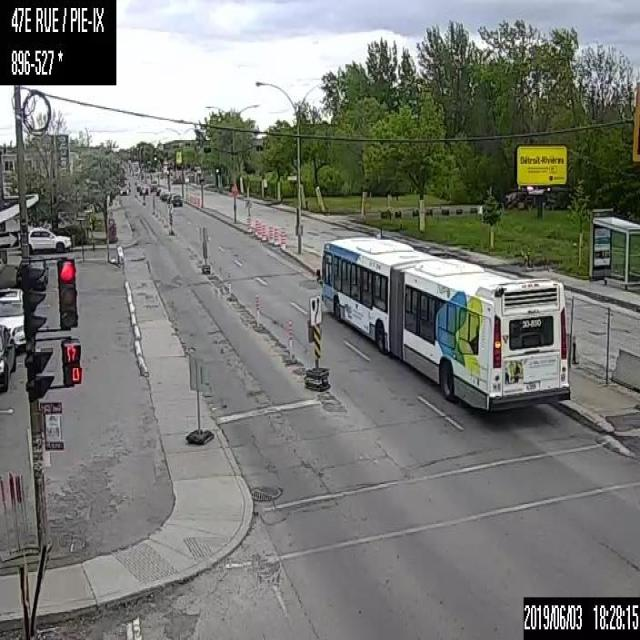bus: (317, 233, 573, 415)
construction: (566, 334, 578, 366), (288, 318, 294, 358), (255, 292, 260, 329), (260, 222, 266, 240), (273, 226, 278, 244), (268, 224, 273, 242), (280, 228, 284, 248), (256, 220, 260, 238), (246, 216, 250, 232)
vehicle: (0, 286, 25, 350), (14, 253, 46, 289), (27, 227, 70, 252), (0, 324, 16, 390), (170, 192, 182, 206), (118, 180, 128, 194), (159, 188, 169, 200), (138, 182, 148, 193), (149, 181, 158, 193), (155, 186, 161, 193), (136, 181, 139, 190)
